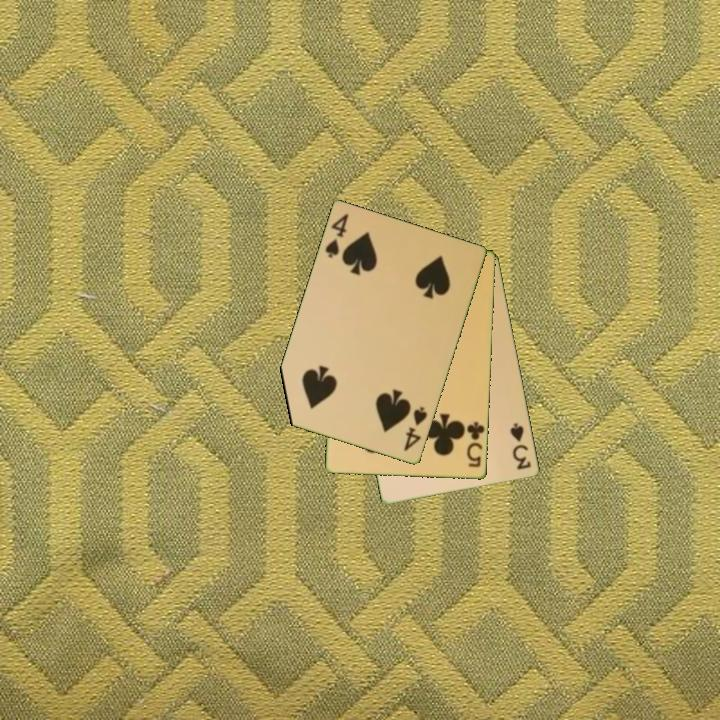3s: (507, 420, 534, 473)
4s: (401, 403, 430, 454), (322, 210, 351, 261)
5c: (464, 418, 487, 471)
